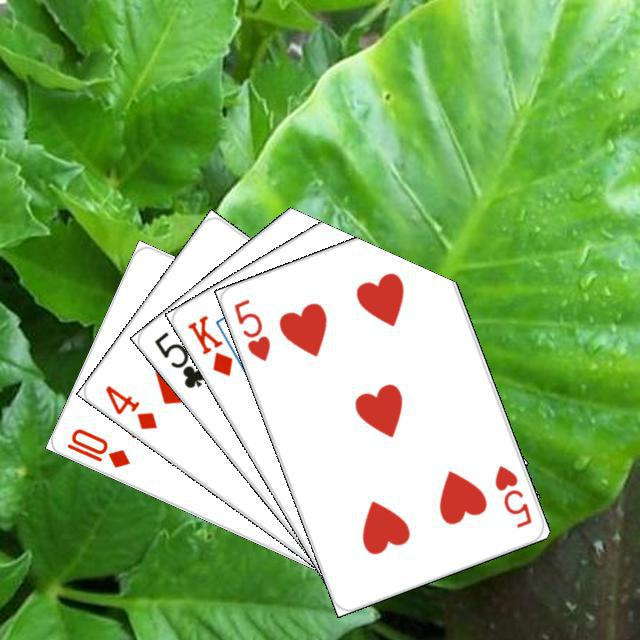10d: (61, 423, 132, 470)
4d: (100, 380, 159, 432)
5c: (149, 326, 207, 390)
5h: (489, 460, 534, 530), (229, 294, 272, 363)
Kd: (182, 310, 235, 378)
